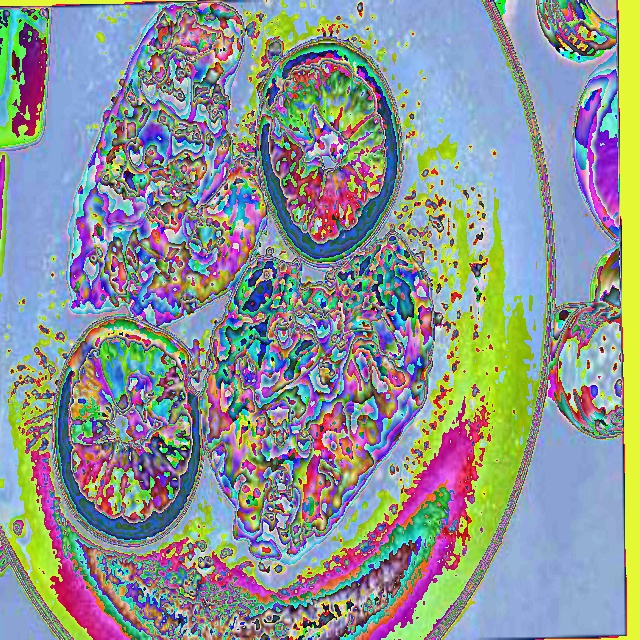background: (50, 3, 435, 564), (48, 47, 619, 246)
